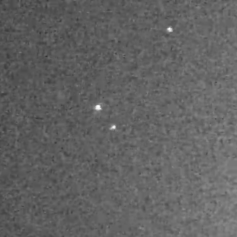Target: (96, 28, 173, 129)
